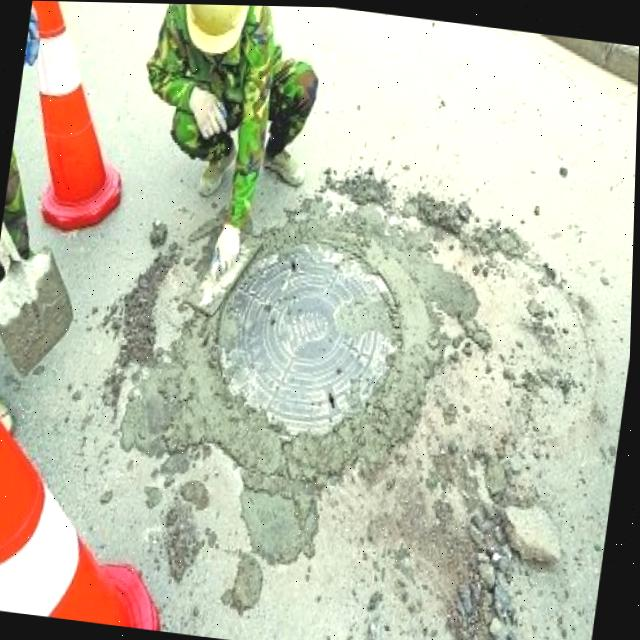manhole: (186, 216, 415, 454)
